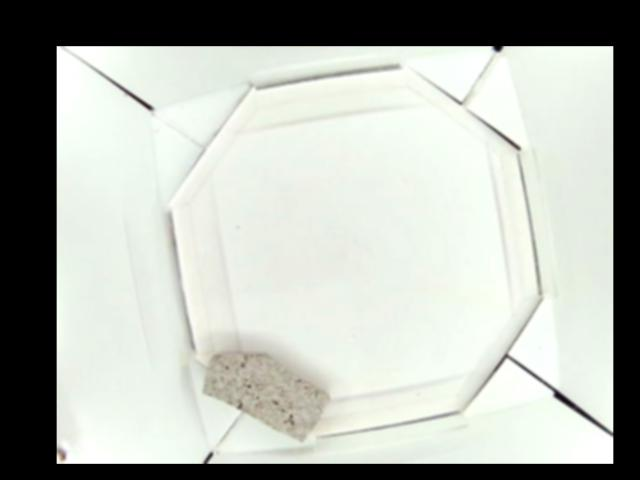China: (200, 350, 329, 442)
